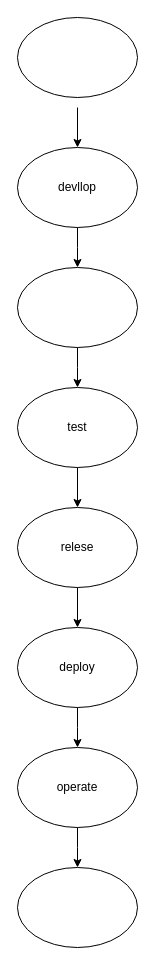
This 155x965 diagram has some shape labels left out. The shapes that lost their labels are listed below. From the top down, each one's centre as x and y in pixels, then its label:
the point at 77,57: plan
the point at 77,307: build
